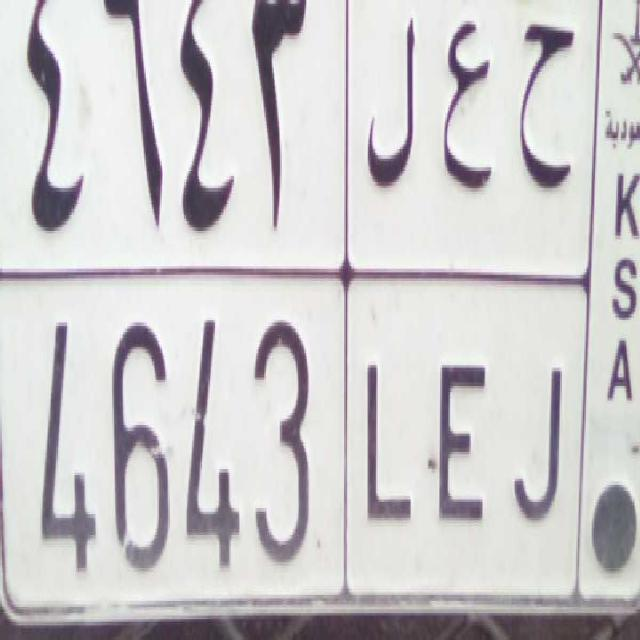license_plate: (16, 289, 567, 603)
